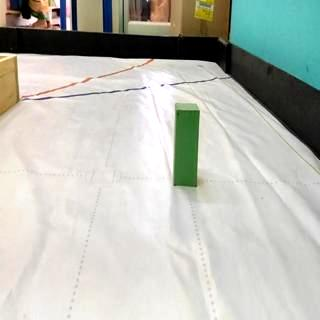greenbox: (173, 103, 200, 186)
